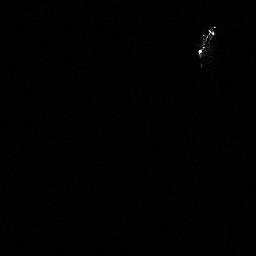ship: (196, 24, 218, 73)
